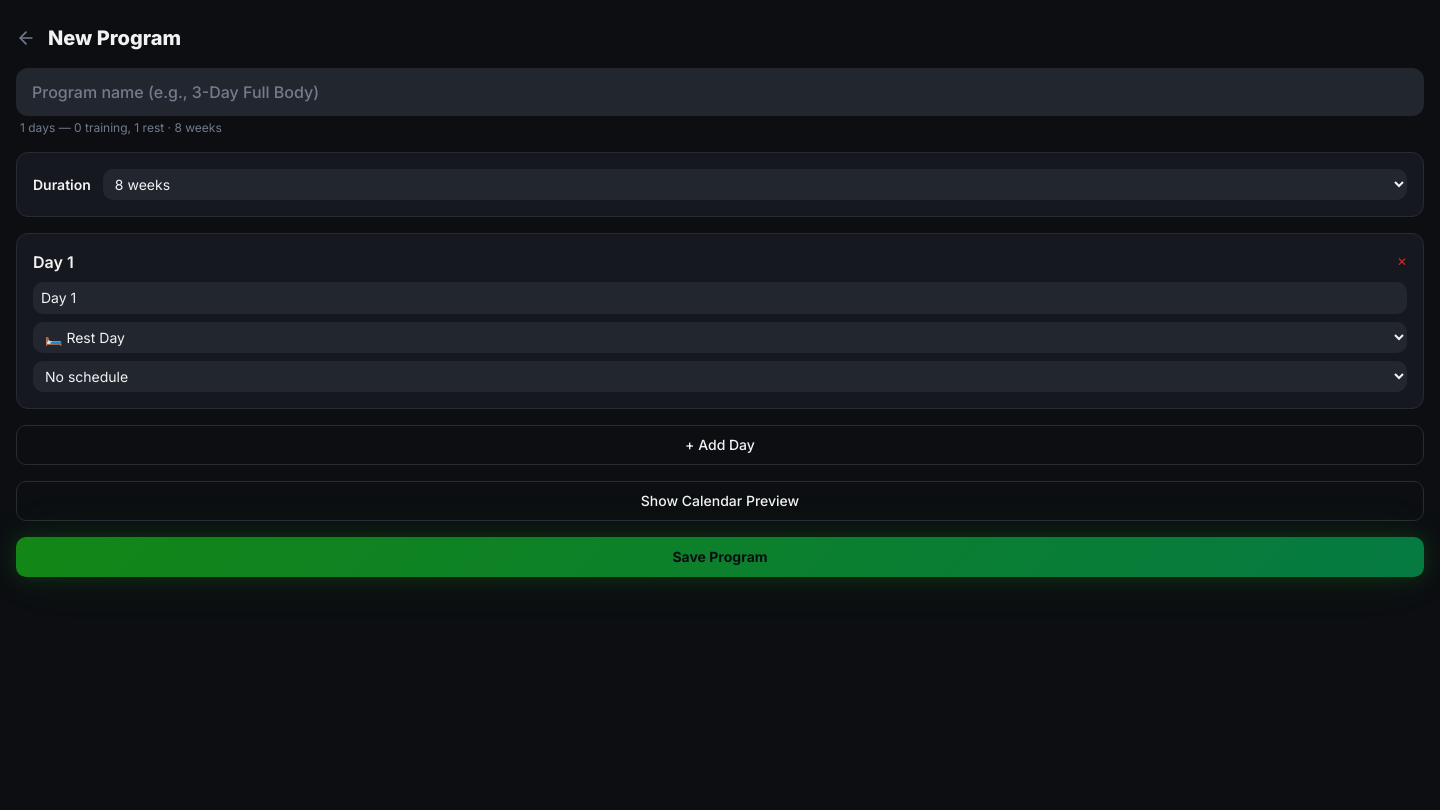
it: a new program › uses the same tile layout, with the calendar preview and a save gated on a name
The image size is (1440, 810).
Later steps or results of the test are not shown.
Expected: the heading "New Program" is shown, [48,24,181,52]
Expected: the heading "Day 1" is shown, [33,250,74,274]
Step 1. Click the button "Show Calendar Preview" → (720, 501), box [16,481,1424,521]
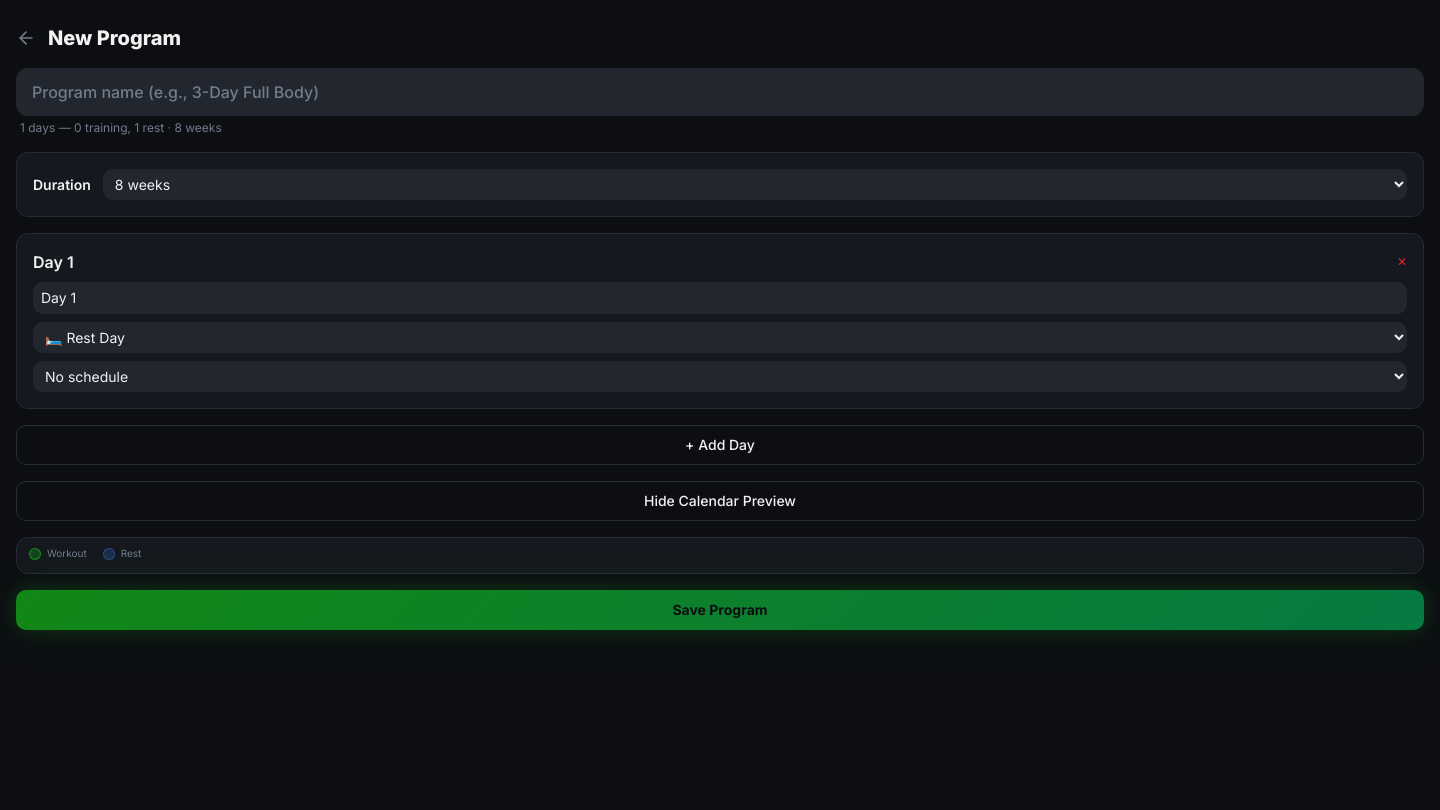
Expected: the button "Save Program" is disabled, [16,590,1424,630]
Now the button "Hide Calendar Preview" is shown, box [16,481,1424,521]
Step 2. Type "Starter" into the field labelled "Program name" → (720, 92), box [16,68,1424,116]
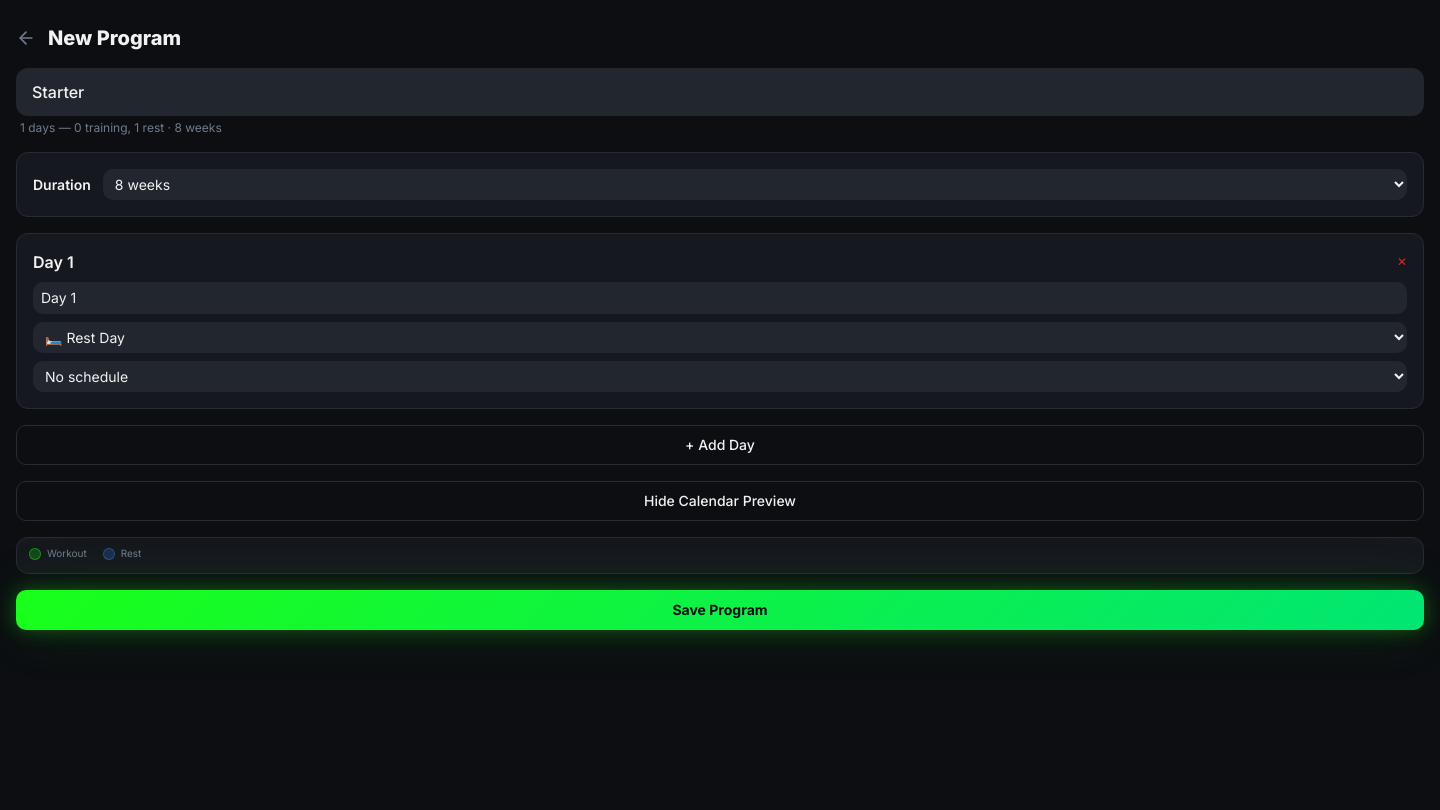
Step 3. Select "Pull Day" in the dropdown named "Workout for day 1" → (720, 338), box [33,322,1407,353]
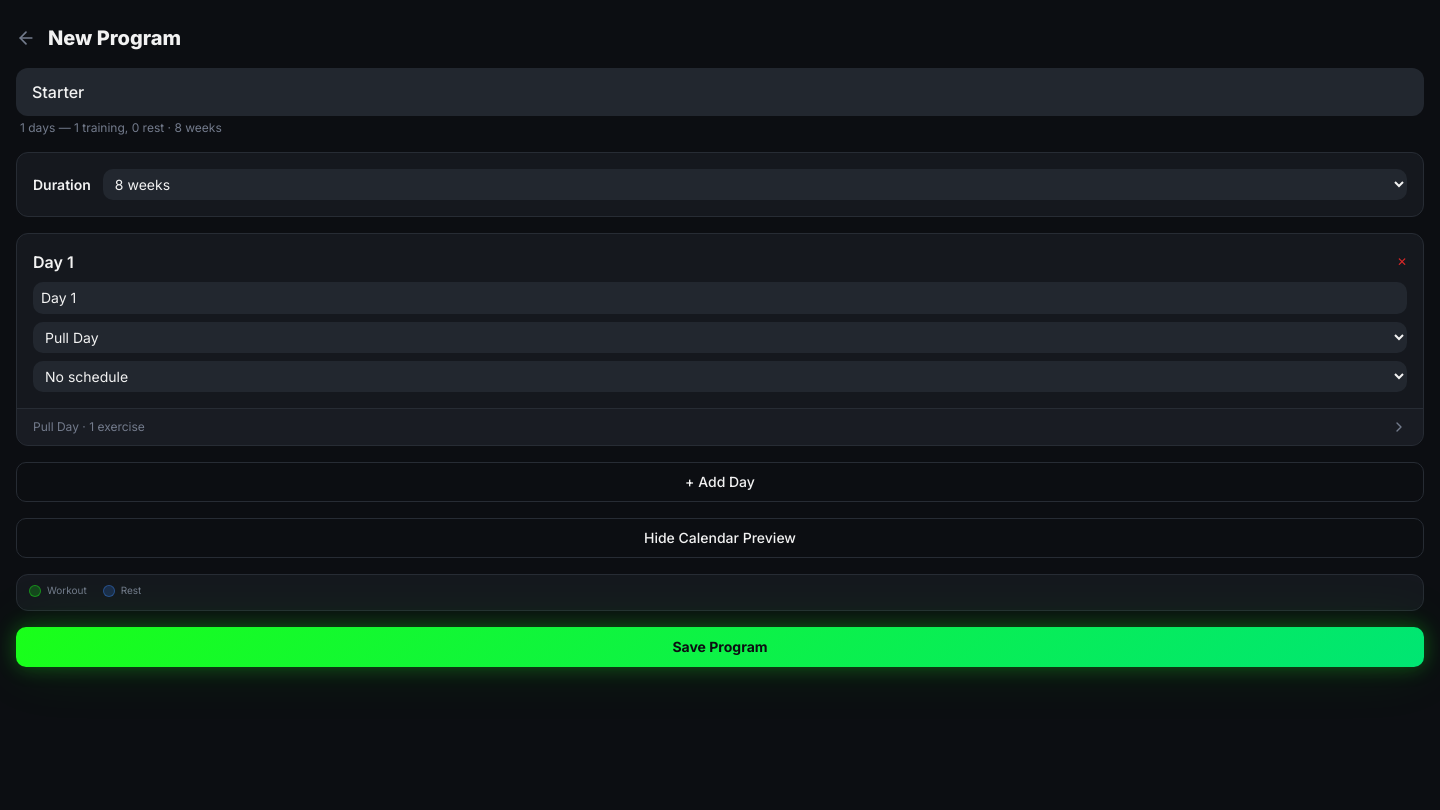
Now the button "Pull Day · 1 exercise" is shown, box [17,408,1423,445]
